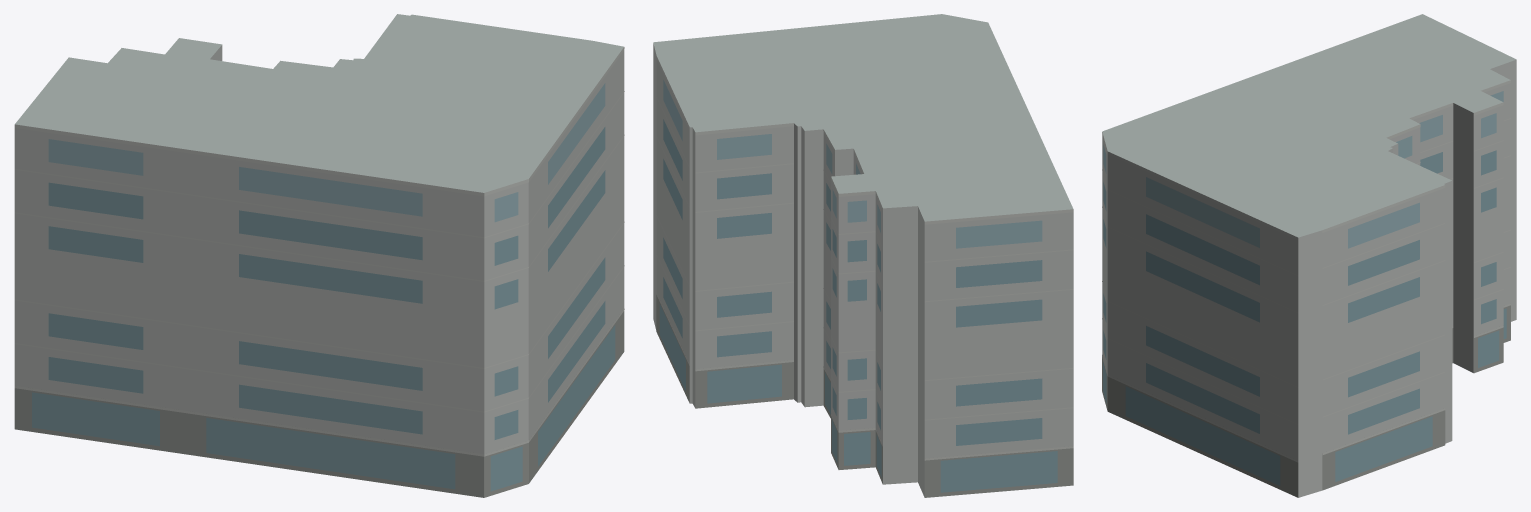
The model's file is survey-upis-32528505.glb.
The picture shows the model from 3 angles, left to right: view 1: azimuth 30°, elevation 25°; view 2: azimuth 150°, elevation 25°; view 3: azimuth 270°, elevation 25°; orthographic projection. The views are drawn at different scales.
Visible parts, largest first — view 1: survey-upis-32528505.tmp; view 2: survey-upis-32528505.tmp; view 3: survey-upis-32528505.tmp.
Boxes of the visible parts, x1,y1,x2,y2 form: survey-upis-32528505.tmp: (14,14,624,497); survey-upis-32528505.tmp: (653,14,1073,497); survey-upis-32528505.tmp: (1102,14,1516,497).
Bounding box in the file's own units: 39.26 × 21.3 × 30.76.
